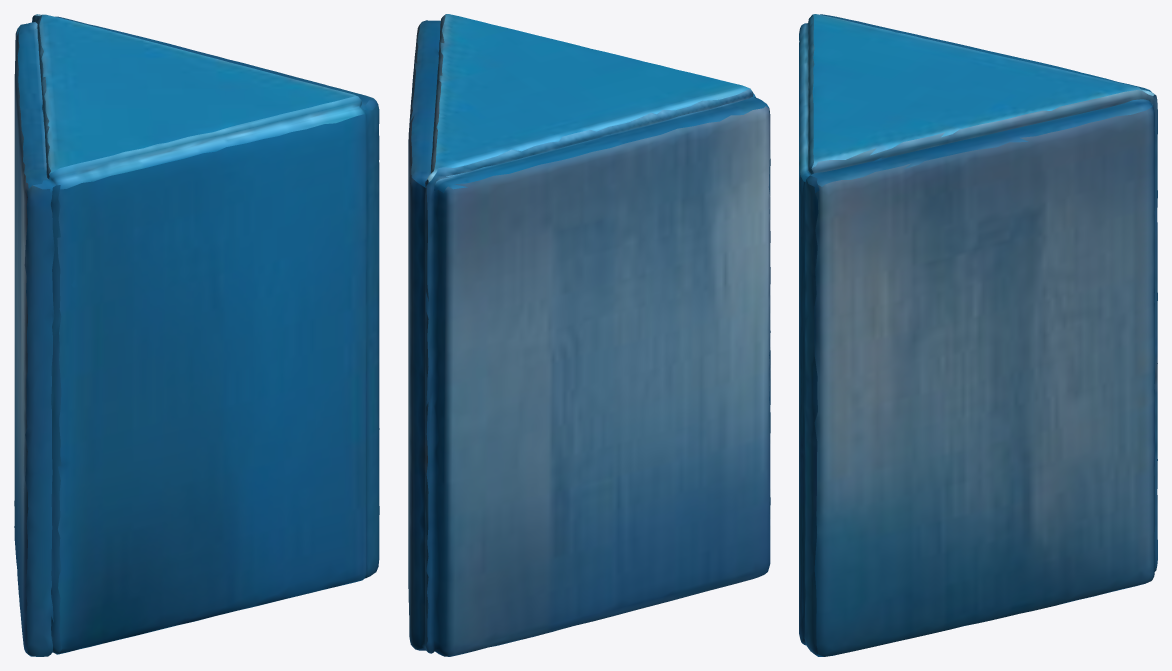
The picture shows the model from 3 angles, left to right: view 1: azimuth 30°, elevation 25°; view 2: azimuth 150°, elevation 25°; view 3: azimuth 270°, elevation 25°; orthographic projection.
Parts seen in each view (by area): view 1: Orientation correction; view 2: Orientation correction; view 3: Orientation correction.
Boxes of the visible parts, x1=… form: Orientation correction: x1=14, y1=14, x2=379, y2=656; Orientation correction: x1=408, y1=14, x2=770, y2=656; Orientation correction: x1=799, y1=14, x2=1157, y2=656.
Bounding box in the file's own units: 0.33 × 0.44 × 0.29.
1 material, 1 textured.
